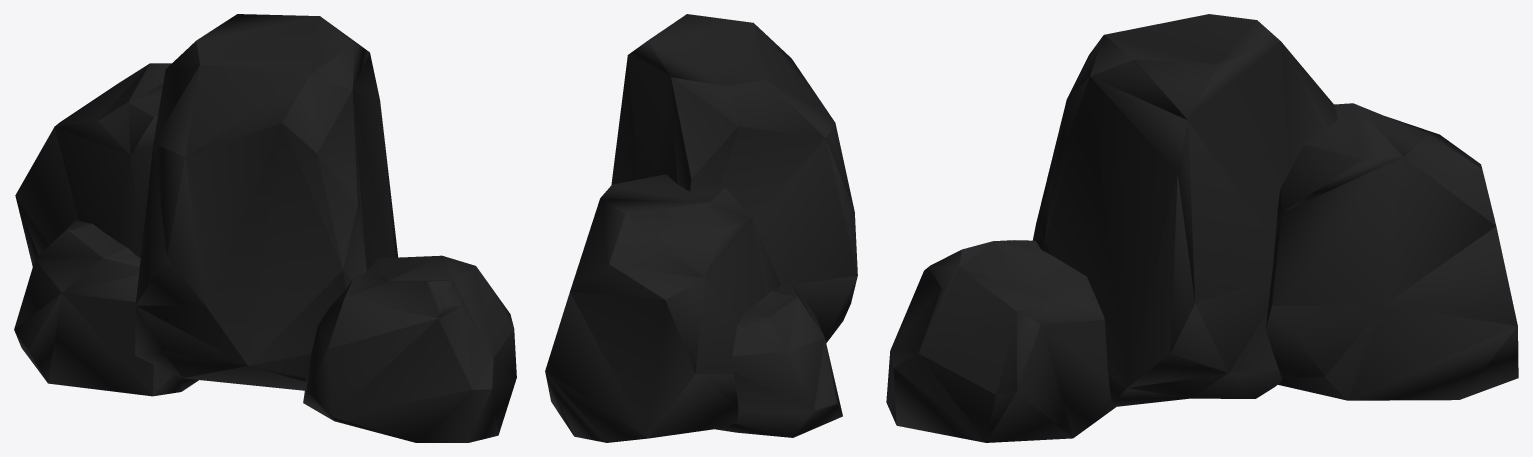
File: Obstacle2BigRocks.glb
3 renders of one model, left to right at view 1: azimuth 30°, elevation 25°; view 2: azimuth 150°, elevation 25°; view 3: azimuth 270°, elevation 25°, orthographic. The views are drawn at different scales.
Parts seen in each view (by area): view 1: PolySphere2; view 2: PolySphere2; view 3: PolySphere2.
Boxes of the visible parts, x1,y1,x2,y2 form: PolySphere2: [14, 14, 516, 442]; PolySphere2: [545, 14, 857, 442]; PolySphere2: [886, 14, 1518, 442].
Bounding box in the file's own units: 0.6593 × 0.6021 × 0.9577.
Materials: 1 (1 with a texture image).
